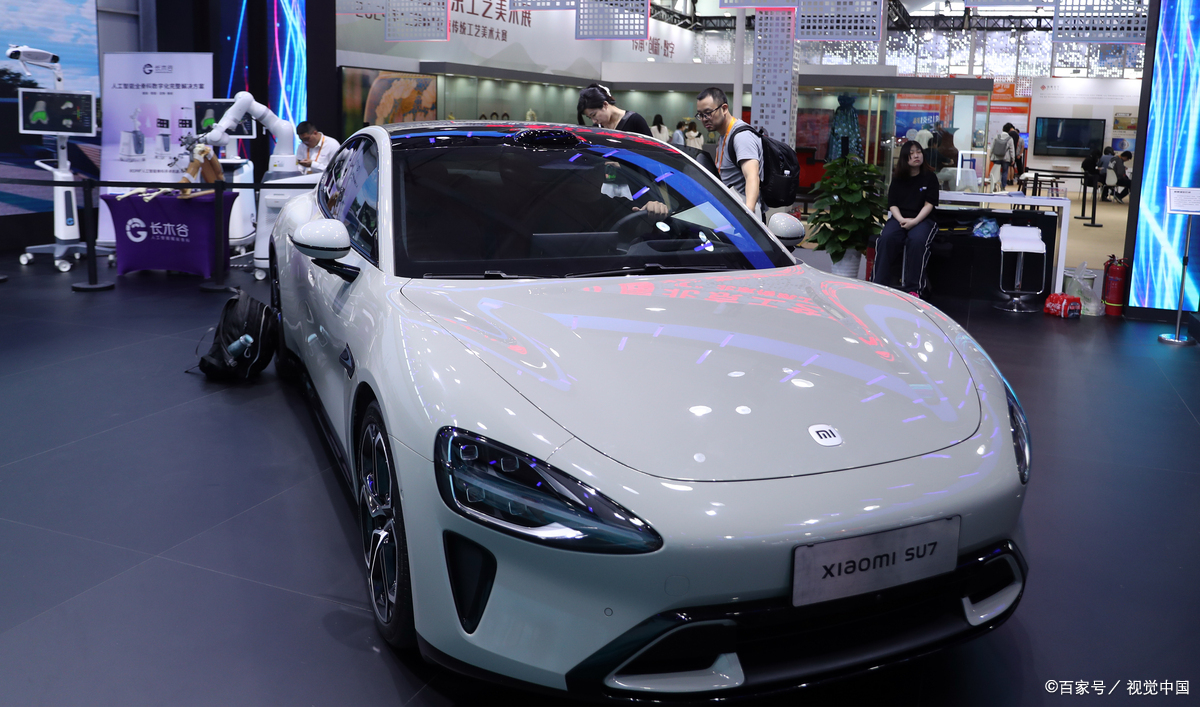su7: (261, 129, 1023, 695)
